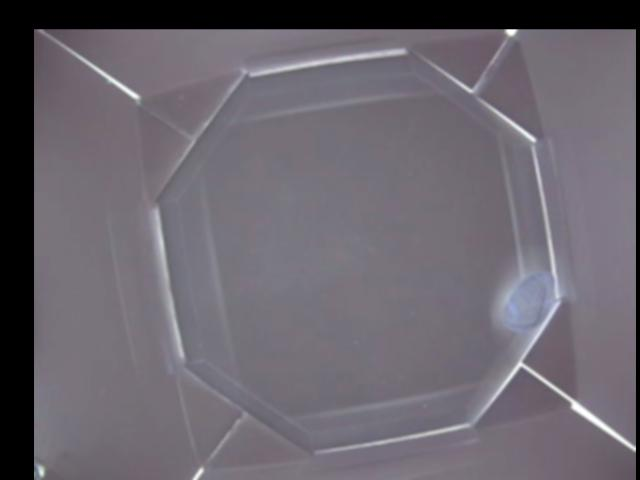Pebble: (501, 270, 551, 329)
